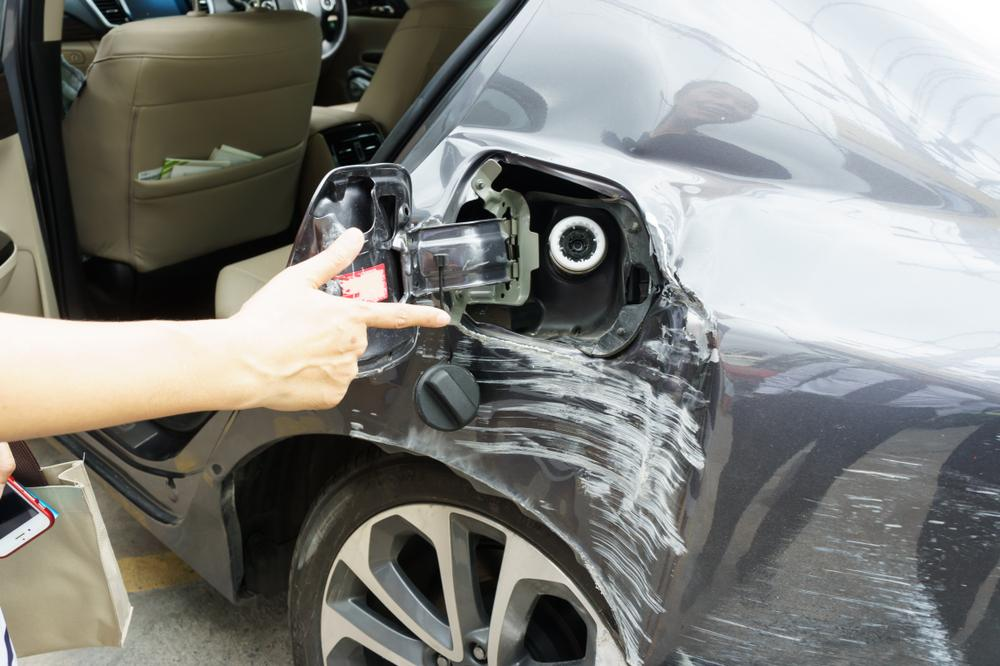dent: (407, 277, 720, 651), (461, 48, 663, 155)
scratch: (671, 427, 1000, 666)
